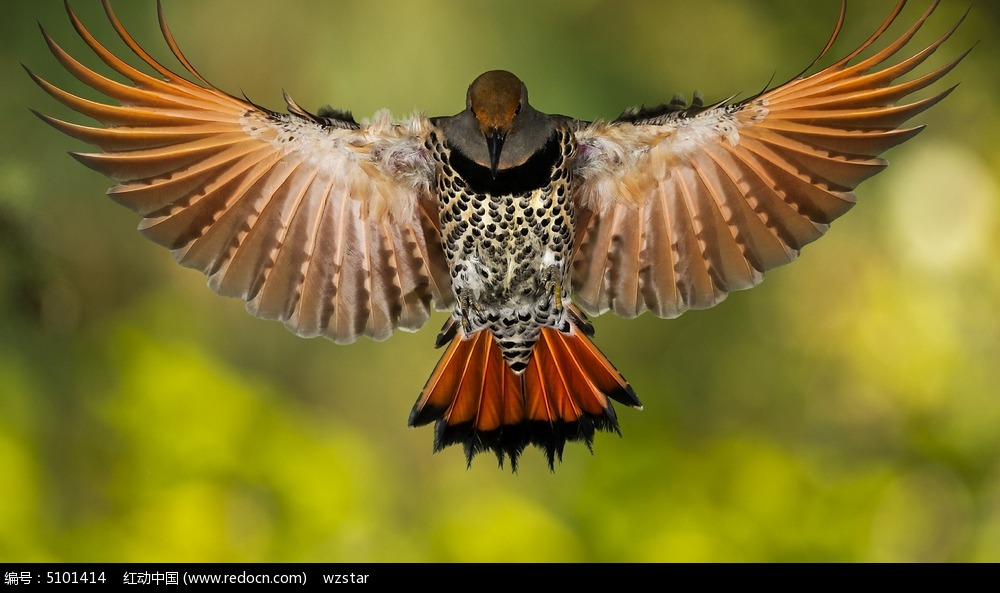bird: (16, 1, 993, 474)
